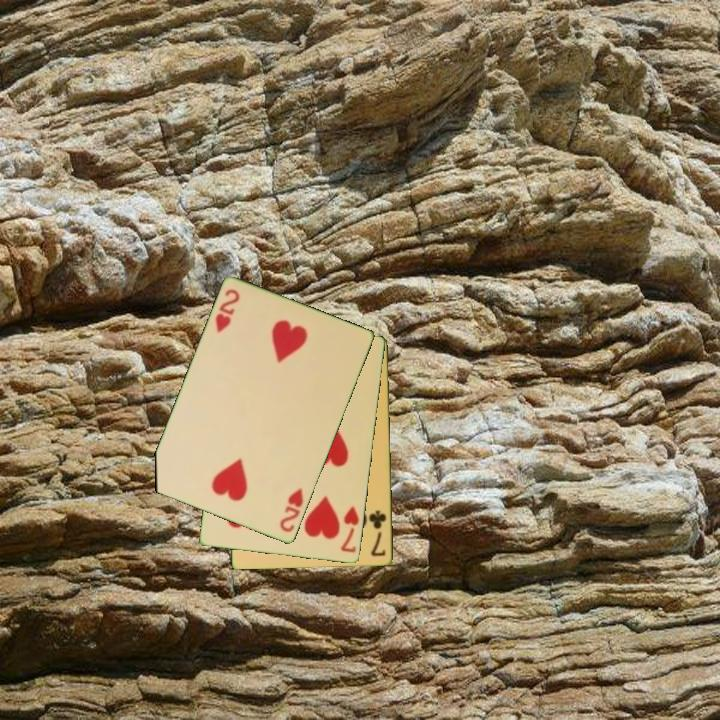2h: (276, 485, 307, 535), (212, 286, 243, 335)
7c: (366, 507, 389, 559)
7h: (337, 502, 362, 556)
